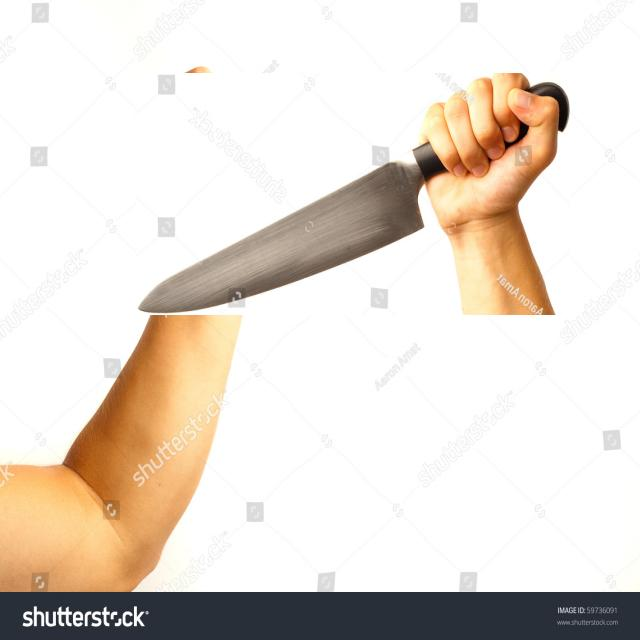knife: (136, 73, 570, 315)
